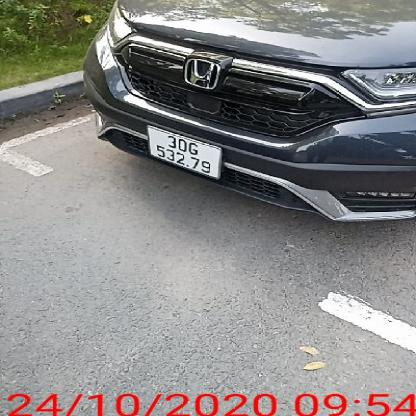biensoxe: (145, 119, 225, 181)
